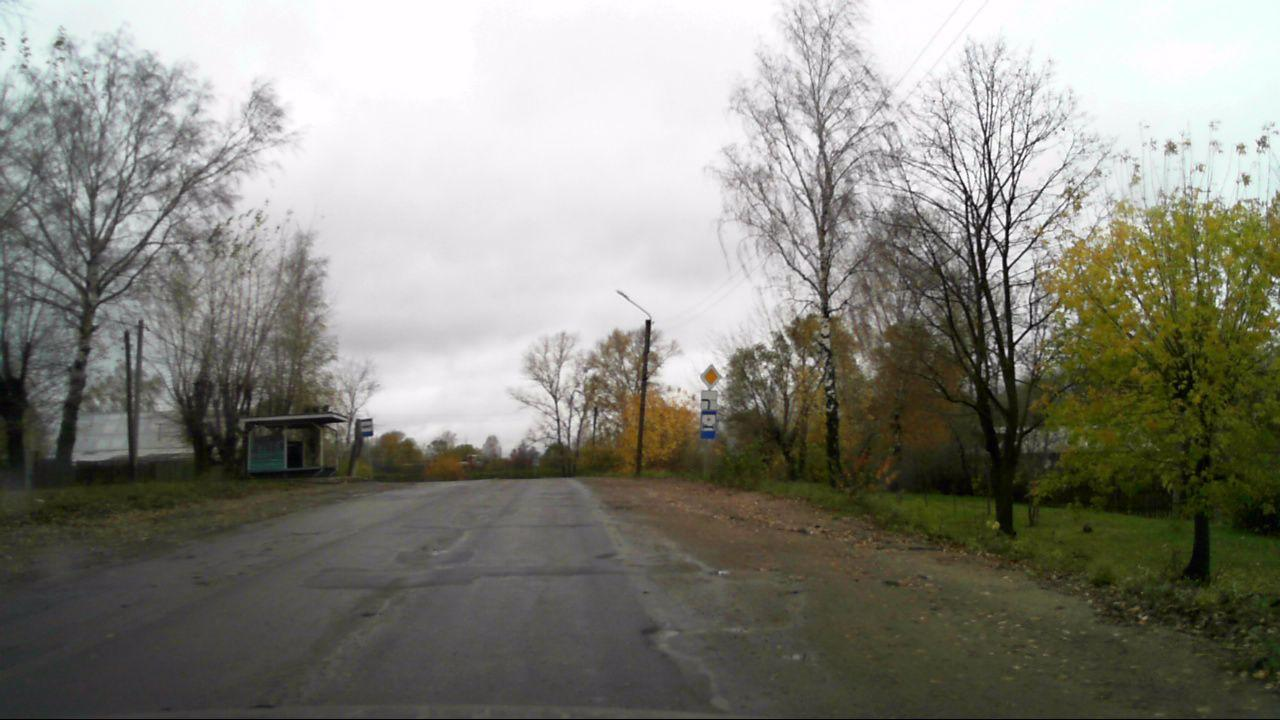2_1: (700, 362, 721, 388)
5_16: (358, 418, 376, 438)
7_2: (700, 411, 718, 439)
8_13: (699, 389, 720, 411)
